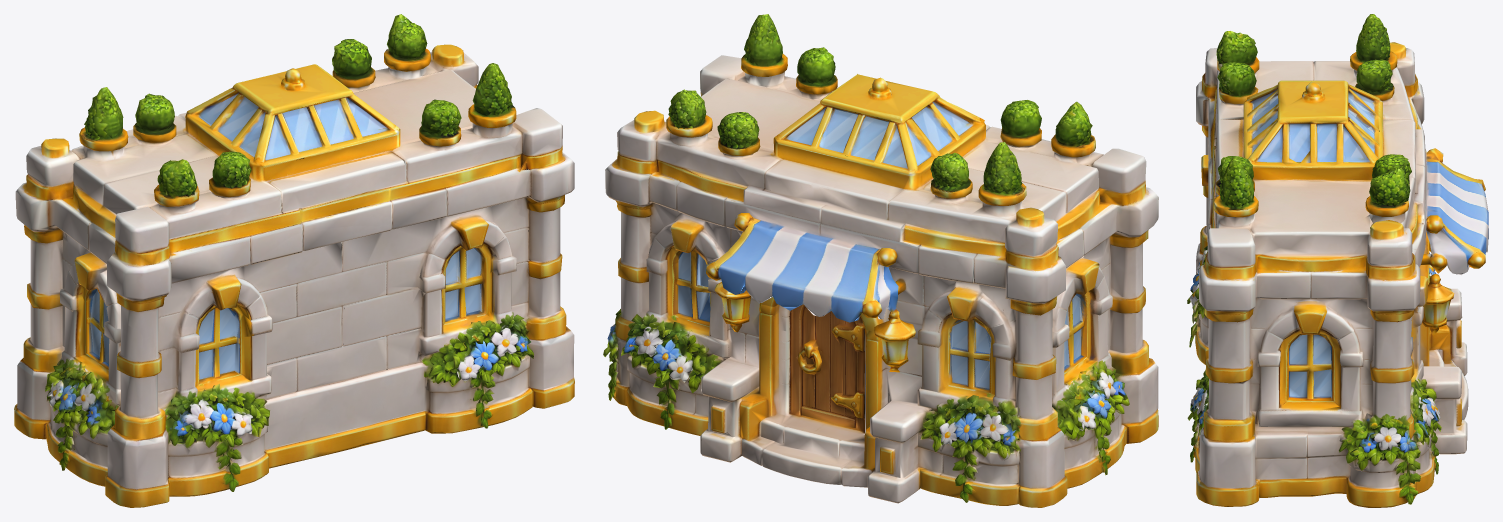
The model's file is HaloDomeHouse_05_parts.glb.
3 views of the same model, side by side, from view 1: azimuth 30°, elevation 25°; view 2: azimuth 150°, elevation 25°; view 3: azimuth 270°, elevation 25° (orthographic). The views are drawn at different scales.
Parts seen in each view (by area): view 1: HaloDomeHouse_05_Body_t11, HaloDomeHouse_05_Body_t00, HaloDomeHouse_05_Body_t10, HaloDomeHouse_05_Body_t01, HaloDomeHouse_05_Glass, HaloDomeHouse_05_WinPane; view 2: HaloDomeHouse_05_Body_t01, HaloDomeHouse_05_Body_t11, HaloDomeHouse_05_Body_t00, HaloDomeHouse_05_Body_t10, HaloDomeHouse_05_Awning, HaloDomeHouse_05_Door, HaloDomeHouse_05_Glass, HaloDomeHouse_05_WinPane, HaloDomeHouse_05_DoorHw; view 3: HaloDomeHouse_05_Body_t11, HaloDomeHouse_05_Body_t10, HaloDomeHouse_05_Body_t01, HaloDomeHouse_05_Body_t00, HaloDomeHouse_05_Awning, HaloDomeHouse_05_Glass, HaloDomeHouse_05_WinPane.
Boxes of the visible parts, <box> form: HaloDomeHouse_05_Body_t11: <box>24,39,574,496</box>; HaloDomeHouse_05_Body_t00: <box>17,44,574,507</box>; HaloDomeHouse_05_Body_t10: <box>22,14,574,491</box>; HaloDomeHouse_05_Body_t01: <box>14,65,573,496</box>; HaloDomeHouse_05_Glass: <box>66,118,482,418</box>; HaloDomeHouse_05_WinPane: <box>67,116,483,418</box>; HaloDomeHouse_05_Body_t01: <box>609,34,1158,507</box>; HaloDomeHouse_05_Body_t11: <box>603,14,1154,503</box>; HaloDomeHouse_05_Body_t00: <box>605,70,1158,505</box>; HaloDomeHouse_05_Body_t10: <box>607,48,1155,502</box>; HaloDomeHouse_05_Awning: <box>706,213,899,322</box>; HaloDomeHouse_05_Door: <box>789,304,864,431</box>; HaloDomeHouse_05_Glass: <box>661,110,1104,430</box>; HaloDomeHouse_05_WinPane: <box>662,109,1103,430</box>; HaloDomeHouse_05_DoorHw: <box>796,322,862,418</box>; HaloDomeHouse_05_Body_t11: <box>1189,17,1468,507</box>; HaloDomeHouse_05_Body_t10: <box>1187,14,1467,506</box>; HaloDomeHouse_05_Body_t01: <box>1187,42,1457,498</box>; HaloDomeHouse_05_Body_t00: <box>1191,61,1468,505</box>; HaloDomeHouse_05_Awning: <box>1426,148,1488,284</box>; HaloDomeHouse_05_Glass: <box>1197,96,1435,411</box>; HaloDomeHouse_05_WinPane: <box>1198,95,1431,404</box>.
Size of the model in its own units: 28.26 by 20.12 by 16.89.
9 materials, 8 textured.
